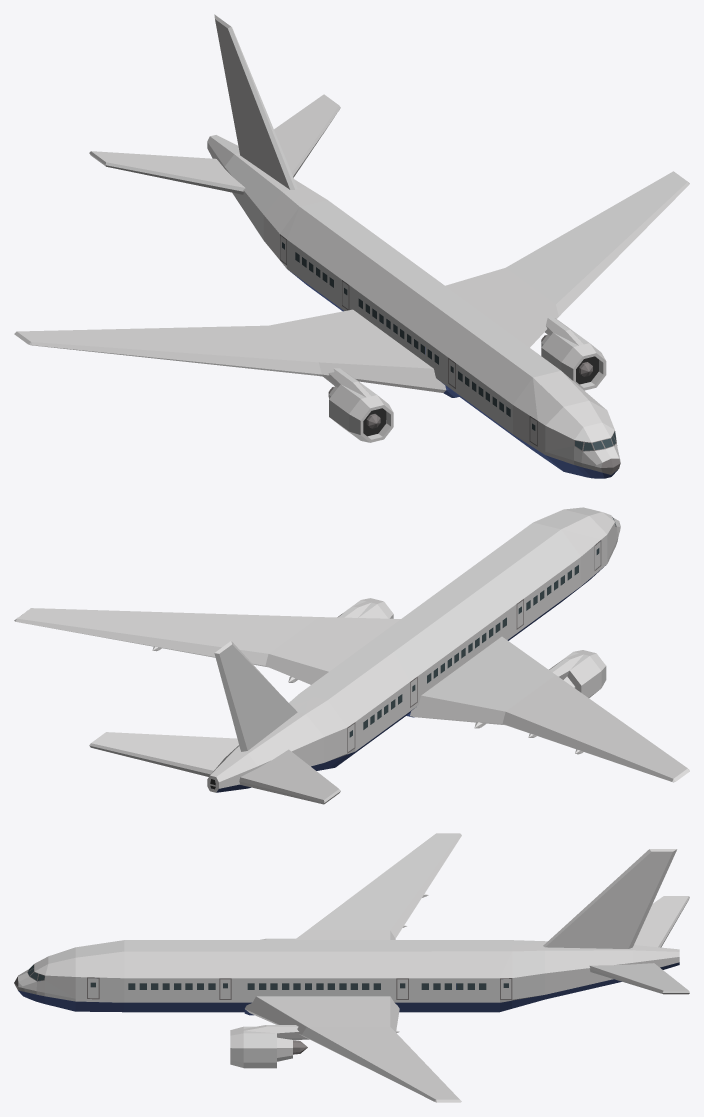
3 renders of one model, top to bottom at view 1: azimuth 30°, elevation 25°; view 2: azimuth 150°, elevation 25°; view 3: azimuth 270°, elevation 25°, orthographic. The views are drawn at different scales.
Parts seen in each view (by area): view 1: plane-passenger-base; view 2: plane-passenger-base; view 3: plane-passenger-base.
Part boxes in pixels (bbox=[...]): plane-passenger-base: bbox=[14, 14, 689, 478]; plane-passenger-base: bbox=[14, 507, 689, 804]; plane-passenger-base: bbox=[14, 833, 689, 1102].
Bounding box in the file's own units: 60.97 × 18.3 × 64.92.
